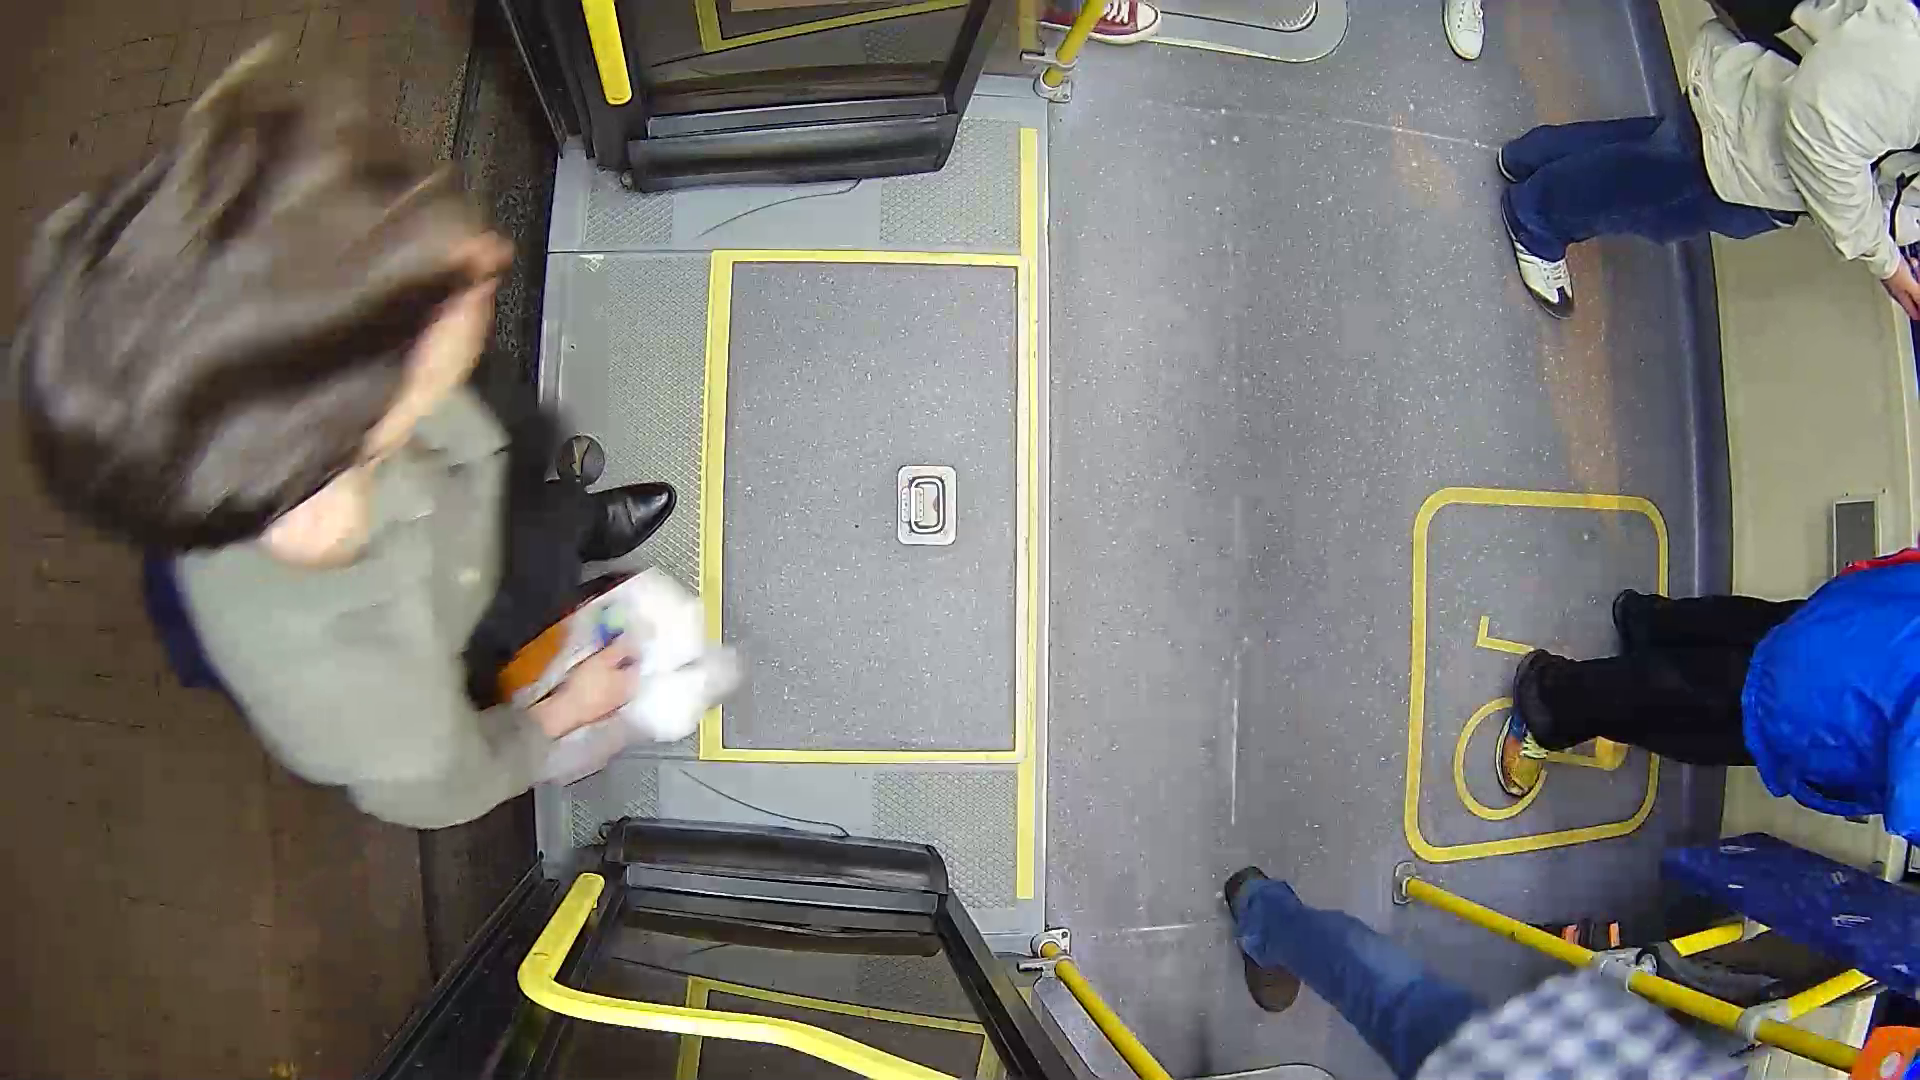person: (55, 95, 796, 803)
